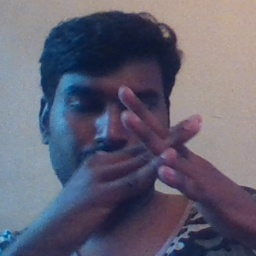W: (88, 76, 227, 215)
